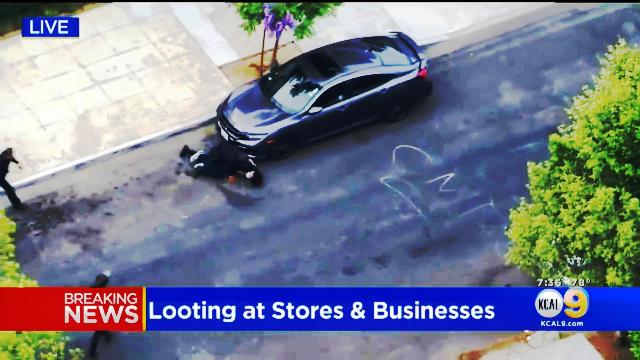jatuh: (180, 132, 264, 192)
